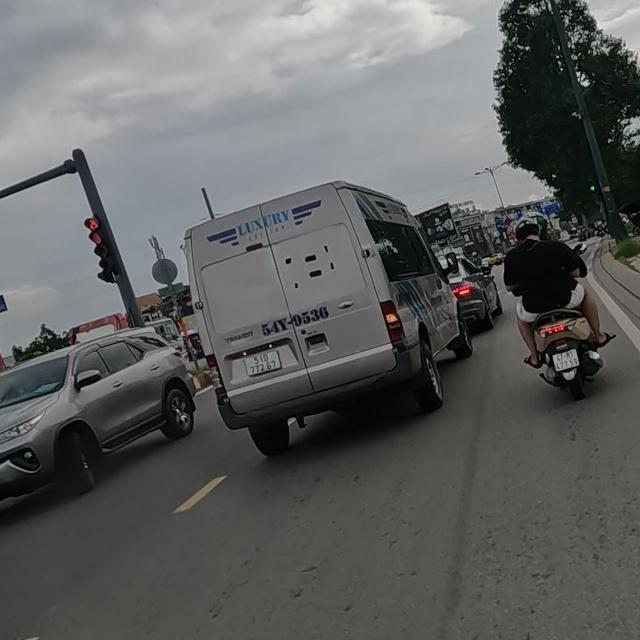license-plate: (243, 350, 282, 377), (552, 349, 580, 372)
